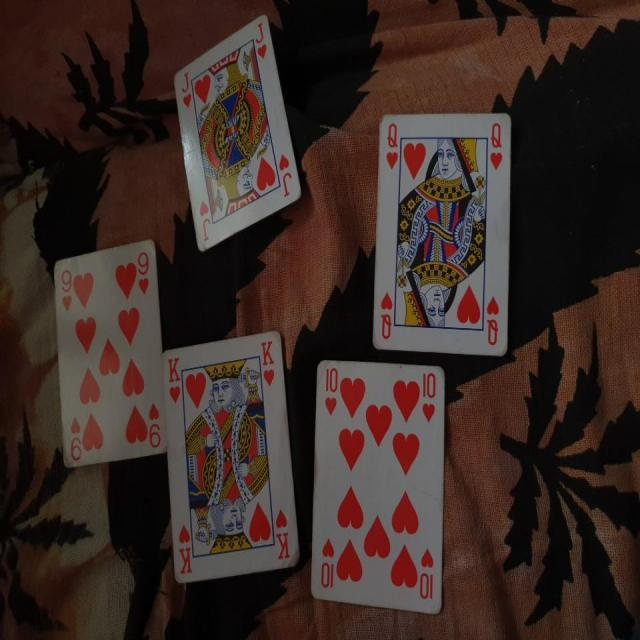10 of hearts: (314, 353, 451, 613)
9 of hearts: (50, 234, 176, 468)
jack of hearts: (170, 15, 304, 262)
king of hearts: (162, 327, 301, 594)
queen of hearts: (364, 105, 522, 364)
